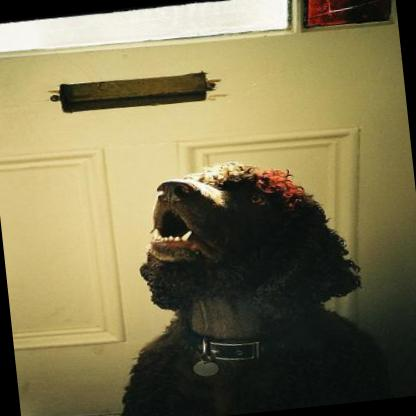Irish_water_spaniel: (93, 144, 391, 416)
